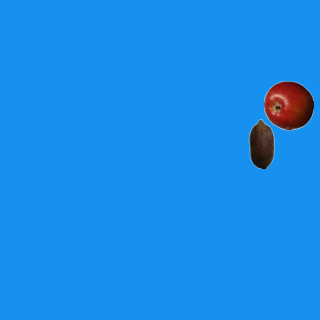Apple Braeburn: (263, 80, 313, 130)
Nut Pecan: (236, 118, 286, 168)
